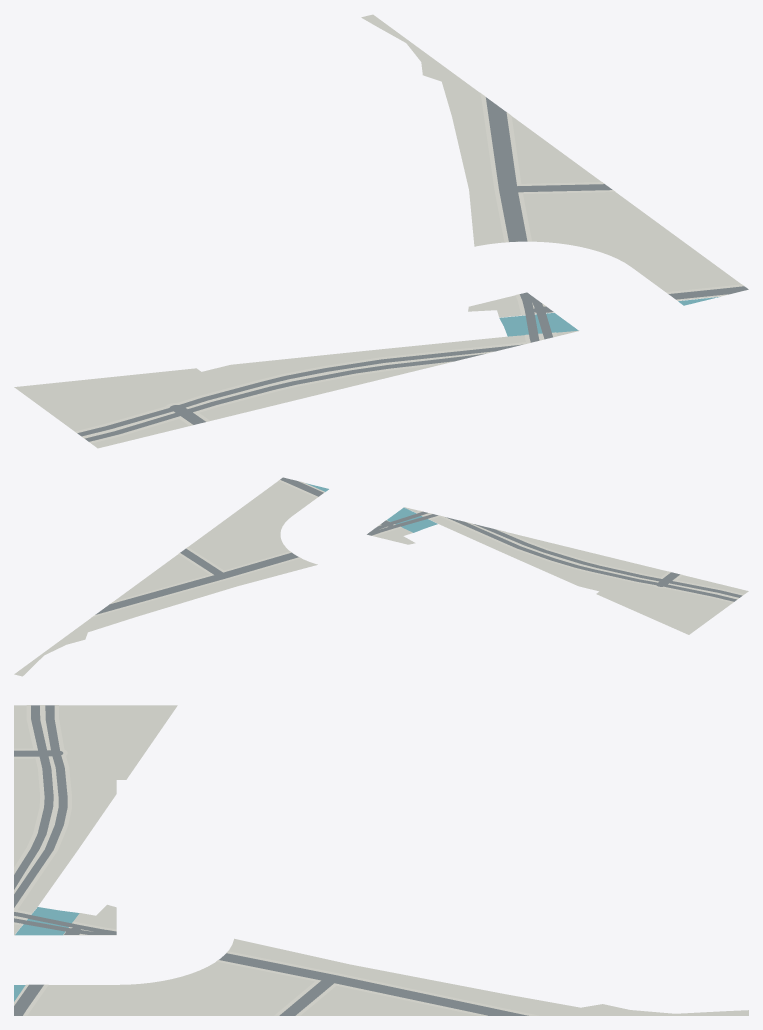
3 renders of one model, top to bottom at view 1: azimuth 30°, elevation 25°; view 2: azimuth 150°, elevation 25°; view 3: azimuth 270°, elevation 25°, orthographic. The views are drawn at different scales.
Parts seen in each view (by area): view 1: city; view 2: city; view 3: city.
Boxes of the visible parts, x1,y1,x2,y2 form: city: [14, 14, 748, 448]; city: [14, 477, 748, 676]; city: [14, 705, 748, 1015].
Bounding box in the file's own units: 500 × 0.4 × 500.
